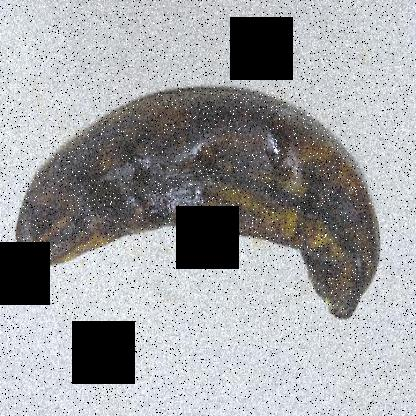rotten: (1, 64, 389, 332)
